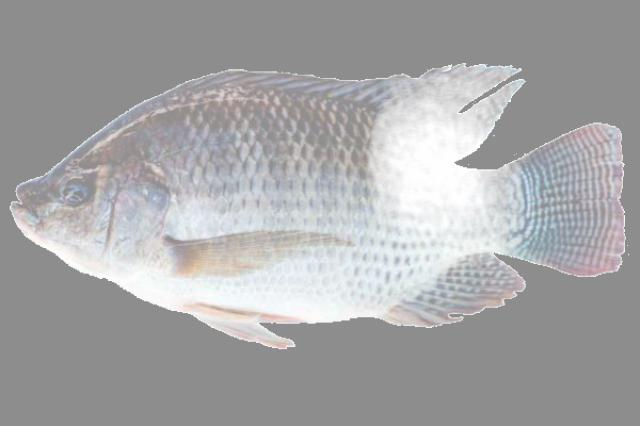Fungal Disease -Saprolegniasis-: (0, 1, 640, 426), (10, 65, 625, 348)
